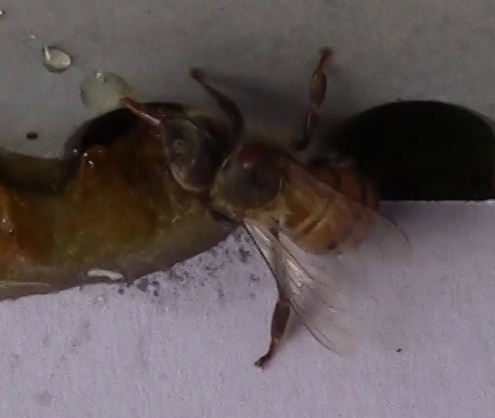Varroa destructor: (234, 141, 269, 172)
